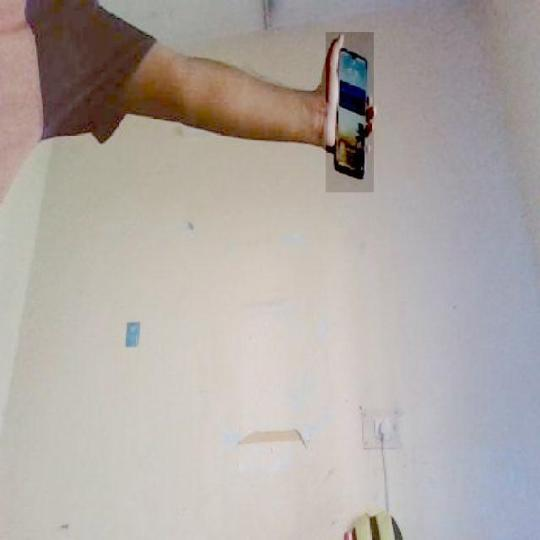phone: (334, 39, 374, 189)
